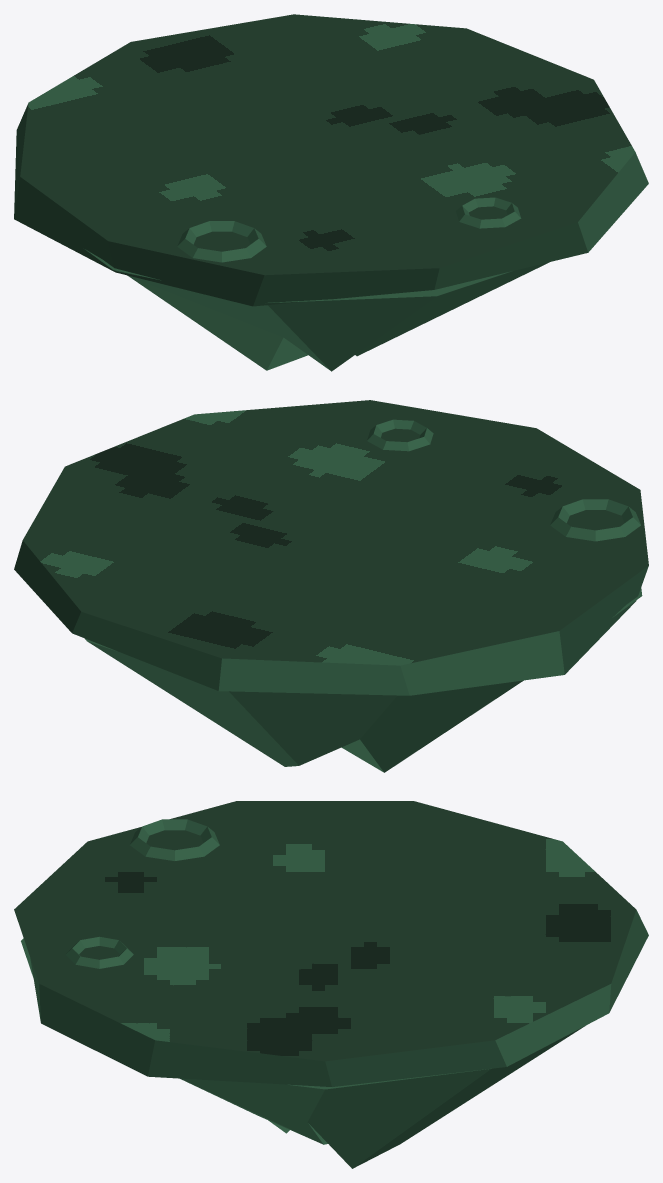
Rendered from asteroid.glb.
The picture shows the model from 3 angles, top to bottom: view 1: azimuth 30°, elevation 25°; view 2: azimuth 150°, elevation 25°; view 3: azimuth 270°, elevation 25°; orthographic projection.
Parts seen in each view (by area): view 1: Top, Under, CraterA, CraterB; view 2: Top, Under, CraterA, CraterB; view 3: Top, Under, CraterA, CraterB.
Boxes of the visible parts, x1=… form: Top: x1=14, y1=14, x2=648, y2=306; Under: x1=85, y1=249, x2=549, y2=371; CraterA: x1=177, y1=221, x2=266, y2=262; CraterB: x1=456, y1=197, x2=521, y2=228; Top: x1=14, y1=400, x2=648, y2=695; Under: x1=85, y1=588, x2=642, y2=772; CraterA: x1=550, y1=499, x2=640, y2=541; CraterB: x1=367, y1=419, x2=433, y2=451; Top: x1=14, y1=801, x2=648, y2=1086; Under: x1=21, y1=938, x2=584, y2=1168; CraterA: x1=130, y1=819, x2=219, y2=860; CraterB: x1=65, y1=936, x2=133, y2=968.
Bounding box in the file's own units: 9.11 × 3.66 × 9.29.
2 materials, 1 textured.
